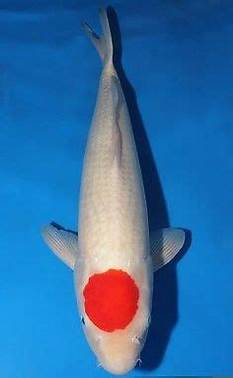sun: (41, 7, 187, 375)
